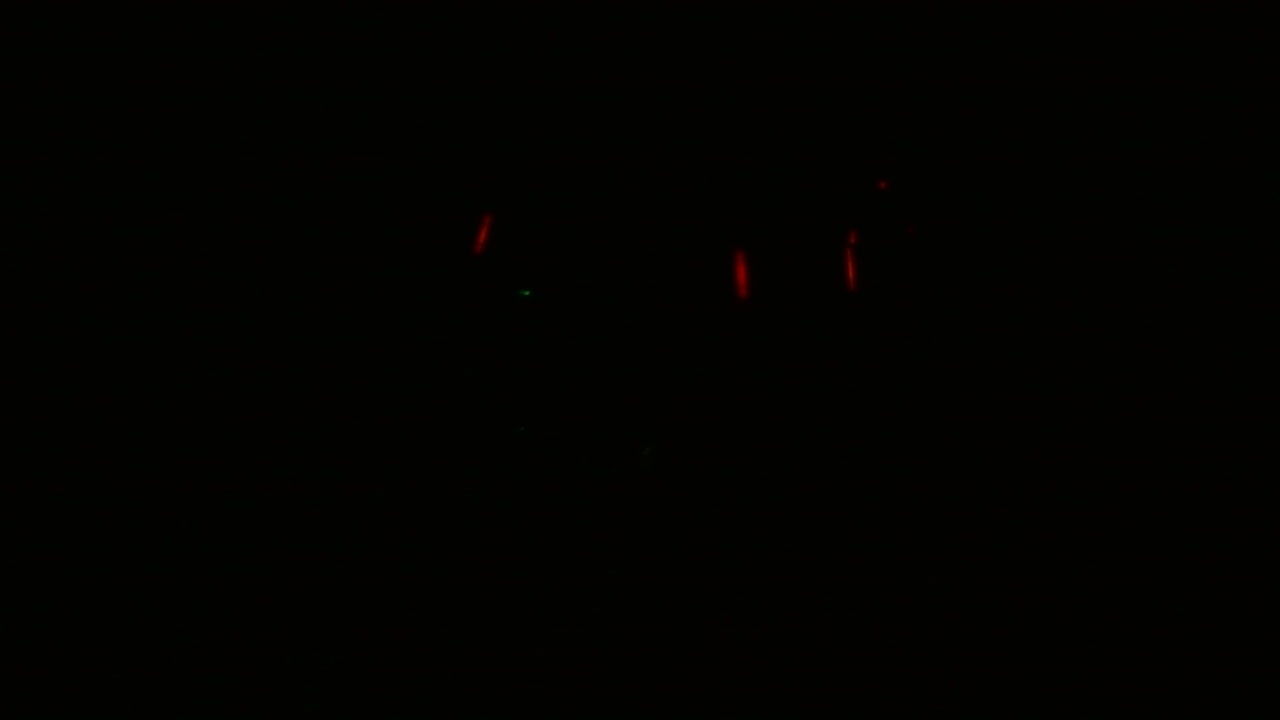pair1: (733, 243, 858, 297)
